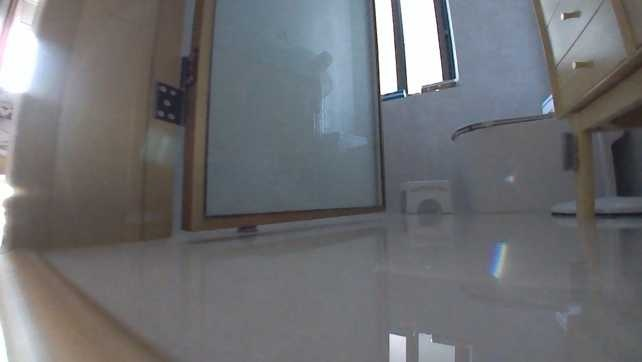chair_base: (552, 189, 641, 215)
door_anno: (175, 0, 389, 231)
door_sill: (0, 245, 173, 360)
plastic_stool: (397, 178, 457, 215)
toilet: (449, 92, 578, 216)
